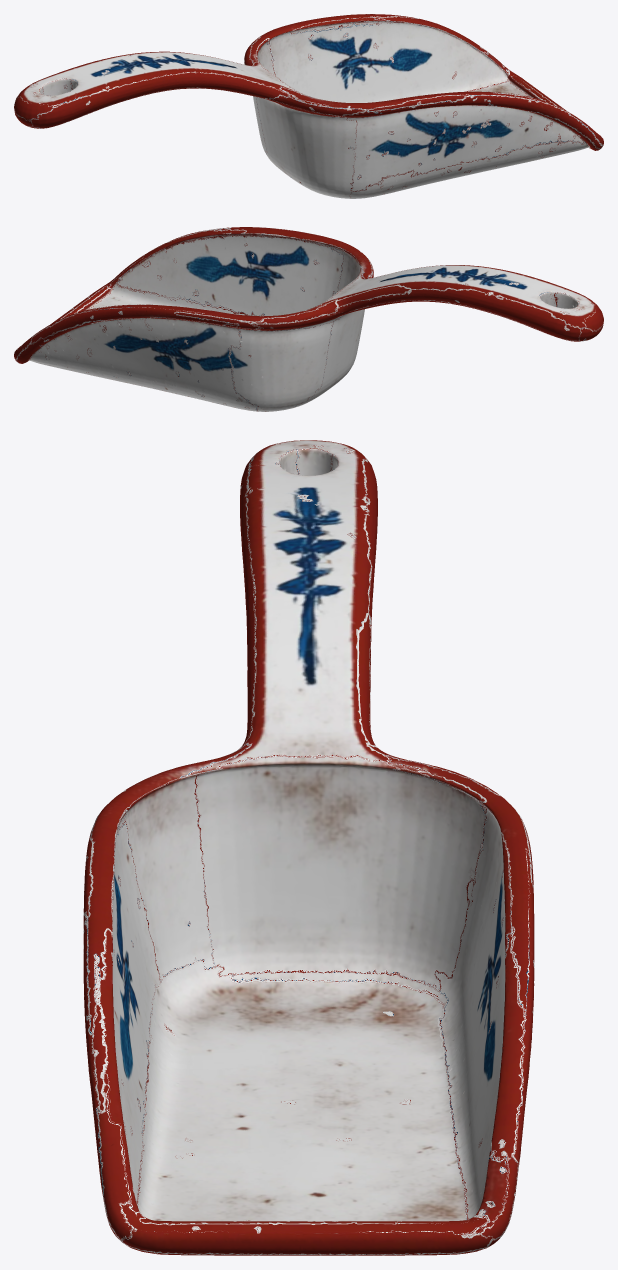
The picture shows the model from 3 angles, top to bottom: view 1: azimuth 30°, elevation 25°; view 2: azimuth 150°, elevation 25°; view 3: azimuth 270°, elevation 25°; orthographic projection. The views are drawn at different scales.
Bounding box in the file's own units: 1.89 × 0.5303 × 0.6775.
1 material, 1 textured.
